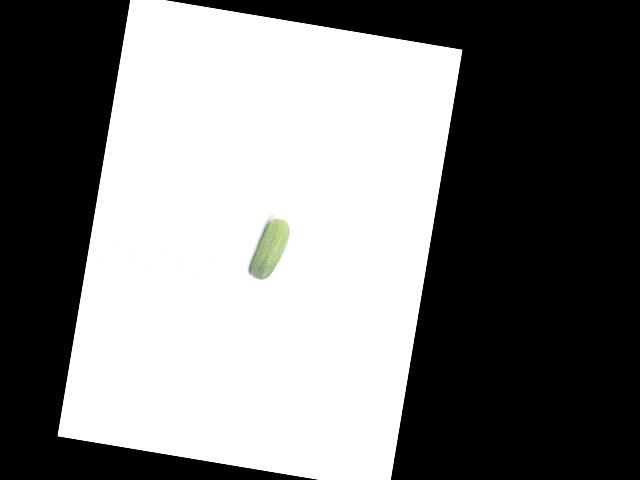cucumber: (248, 215, 291, 283)
